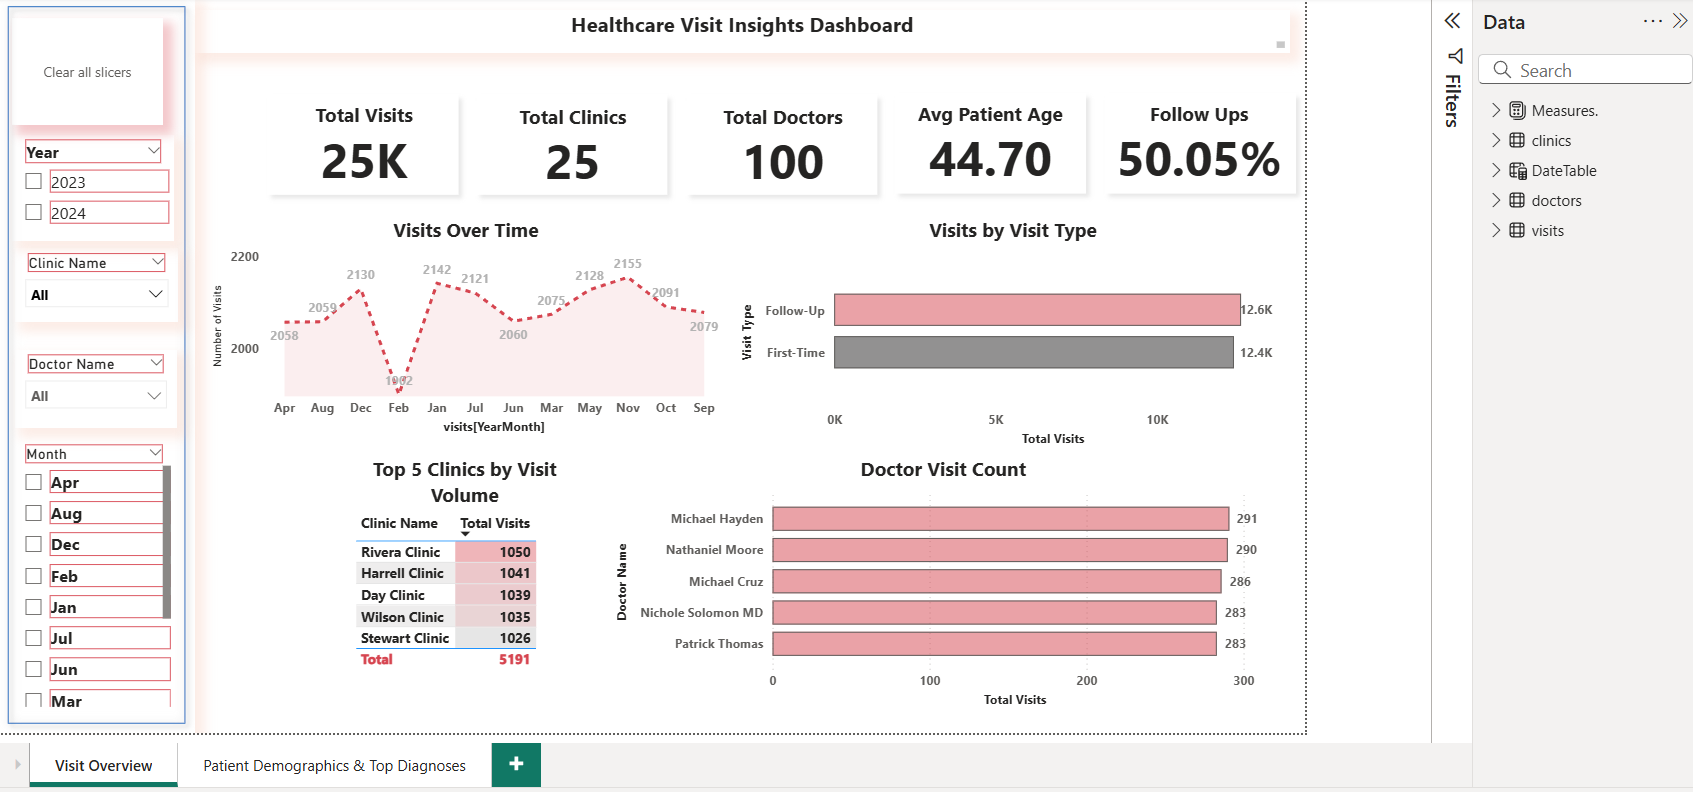

The page's visual inventory and layout, read from the dashboard file:
{"tool":"powerbi","page":{"name":"Visit Overview","canvas":[1280,720],"ordinal":0},"visuals":[{"type":"group","id":"g1","title":"Shapes","box":[256.6,85.4,1023.4,117.5],"z":0},{"type":"shape","box":[256.6,87.2,204.7,115.7],"z":0,"group":"g1"},{"type":"shape","box":[461.3,87.2,204.7,115.7],"z":1000,"group":"g1"},{"type":"card","title":"Total Visits","fields":{"Values":["Measures..Total Visits"]},"box":[271.2,102.4,177.5,85.1],"z":1000},{"type":"shape","box":[666,87.2,204.7,115.7],"z":2000,"group":"g1"},{"type":"card","title":"Avg Patient Age","fields":{"Values":["Measures..Avg Patient Age"]},"box":[884.4,101,177.5,85.1],"z":2000},{"type":"shape","box":[870.6,85.4,204.7,115.7],"z":3000,"group":"g1"},{"type":"card","title":"Total Clinics","fields":{"Values":["Measures..Unique Clinic"]},"box":[476.1,103.9,177.5,85.1],"z":3000},{"type":"shape","box":[1075.3,85.4,204.7,115.7],"z":4000,"group":"g1"},{"type":"card","title":"Total Doctors","fields":{"Values":["Measures..Unique Doctors"]},"box":[681,103.9,177.5,85.1],"z":4000},{"type":"card","title":"Follow Ups","fields":{"Values":["Measures..Follow ups %"]},"box":[1087.8,101,177.5,85.1],"z":5000},{"type":"lineChart","title":"Visits Over Time","fields":{"Y":["Measures..Total Visits"],"Category":["DateTable.Year Hierarchy.Year","DateTable.Year Hierarchy.Month"]},"box":[206.7,215.2,506.3,217.7],"z":6000},{"type":"clusteredBarChart","title":"Visits by Visit Type","fields":{"Y":["Measures..Total Visits"],"Category":["visits.Visit_Type"]},"box":[725.7,215,539.6,229.4],"z":7000},{"type":"tableEx","title":"Top 5 Clinics by Visit Volume","fields":{"Values":["clinics.Clinic_Name","Measures..Total Visits"]},"box":[346.3,448.7,225.1,251],"z":8000},{"type":"barChart","title":"Doctor Visit Count","fields":{"Y":["Measures..Total Visits"],"Category":["doctors.Doctor_Name"]},"box":[603.1,448.7,647.8,251],"z":9000},{"type":"shape","box":[2.9,0,191.9,719.9],"z":10000},{"type":"slicer","fields":{"Values":["DateTable.visits[YearMonth].Year"]},"box":[15.9,134.2,158.7,103.9],"z":11000},{"type":"slicer","fields":{"Values":["clinics.Clinic_Name"]},"box":[18.8,245.3,160.1,72.1],"z":12000},{"type":"slicer","fields":{"Values":["doctors.Doctor_Name"]},"box":[18.8,344.8,158.7,76.5],"z":13000},{"type":"slicer","fields":{"Values":["DateTable.Month"]},"box":[16,432.5,160.2,267],"z":14000},{"type":"textbox","title":"Healthcare Visit Insights Dashboard","box":[194,12.5,1071.4,42.7],"z":15000},{"type":"actionButton","box":[15.9,20.2,147.2,103.9],"z":16000}]}

Visuals, with their boxes on the page's 1280x720 design canvas (x1, y1, x2, y2). These are canvas units, not pixel positions in the 1693x792 screenshot, which may show the page scaled, cropped or inside an application window:
"Shapes" group: detection(257, 85, 1280, 203)
shape: detection(257, 87, 461, 203)
shape: detection(461, 87, 666, 203)
"Total Visits" card: detection(271, 102, 449, 188)
shape: detection(666, 87, 871, 203)
"Avg Patient Age" card: detection(884, 101, 1062, 186)
shape: detection(871, 85, 1075, 201)
"Total Clinics" card: detection(476, 104, 654, 189)
shape: detection(1075, 85, 1280, 201)
"Total Doctors" card: detection(681, 104, 858, 189)
"Follow Ups" card: detection(1088, 101, 1265, 186)
"Visits Over Time" lineChart: detection(207, 215, 713, 433)
"Visits by Visit Type" clusteredBarChart: detection(726, 215, 1265, 444)
"Top 5 Clinics by Visit Volume" tableEx: detection(346, 449, 571, 700)
"Doctor Visit Count" barChart: detection(603, 449, 1251, 700)
shape: detection(3, 0, 195, 720)
slicer - DateTable.visits[YearMonth].Year: detection(16, 134, 175, 238)
slicer - clinics.Clinic_Name: detection(19, 245, 179, 317)
slicer - doctors.Doctor_Name: detection(19, 345, 178, 421)
slicer - DateTable.Month: detection(16, 432, 176, 700)
"Healthcare Visit Insights Dashboard" textbox: detection(194, 12, 1265, 55)
actionButton: detection(16, 20, 163, 124)
